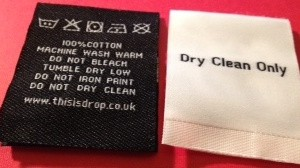do_not_dry_clean: (132, 22, 151, 34)
